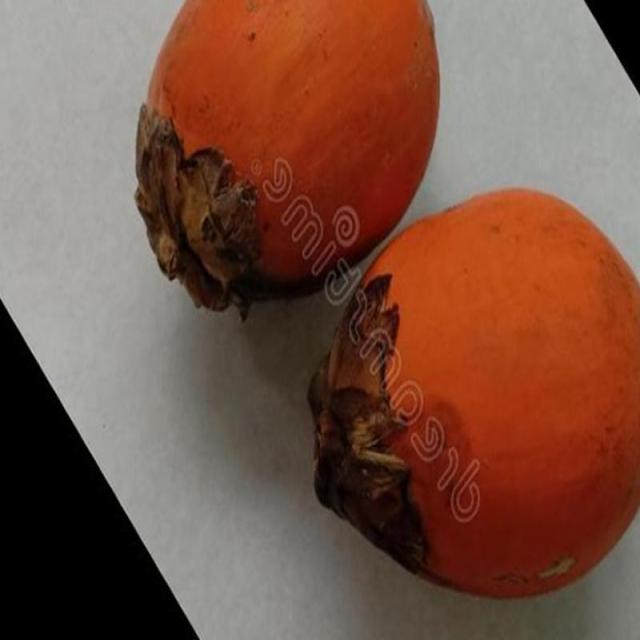good: (306, 188, 639, 601), (134, 0, 442, 319)
